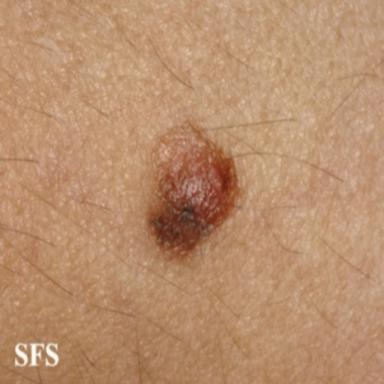Melanoma: (149, 123, 239, 263)
